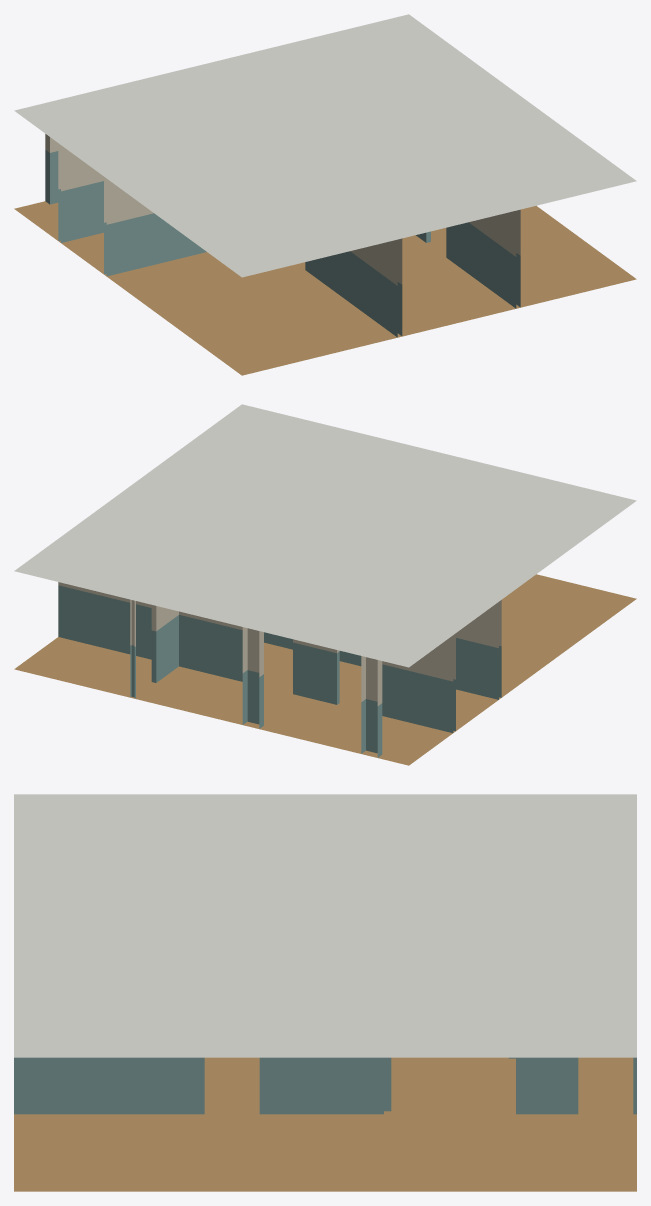
Rendered from chunk_2_2.glb.
The picture shows the model from 3 angles, top to bottom: view 1: azimuth 30°, elevation 25°; view 2: azimuth 150°, elevation 25°; view 3: azimuth 270°, elevation 25°; orthographic projection. The views are drawn at different scales.
Visible parts, largest first — view 1: chunk_2_2; view 2: chunk_2_2; view 3: chunk_2_2.
Boxes of the visible parts, box(x1,y1,x2,y2) form: chunk_2_2: box(14, 14, 636, 375); chunk_2_2: box(14, 404, 636, 765); chunk_2_2: box(14, 794, 636, 1191).
Size of the model in its own units: 12 by 2.85 by 12.
